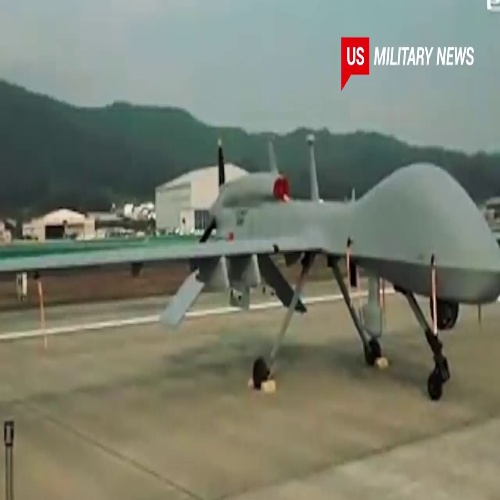uav: (5, 132, 500, 398)
